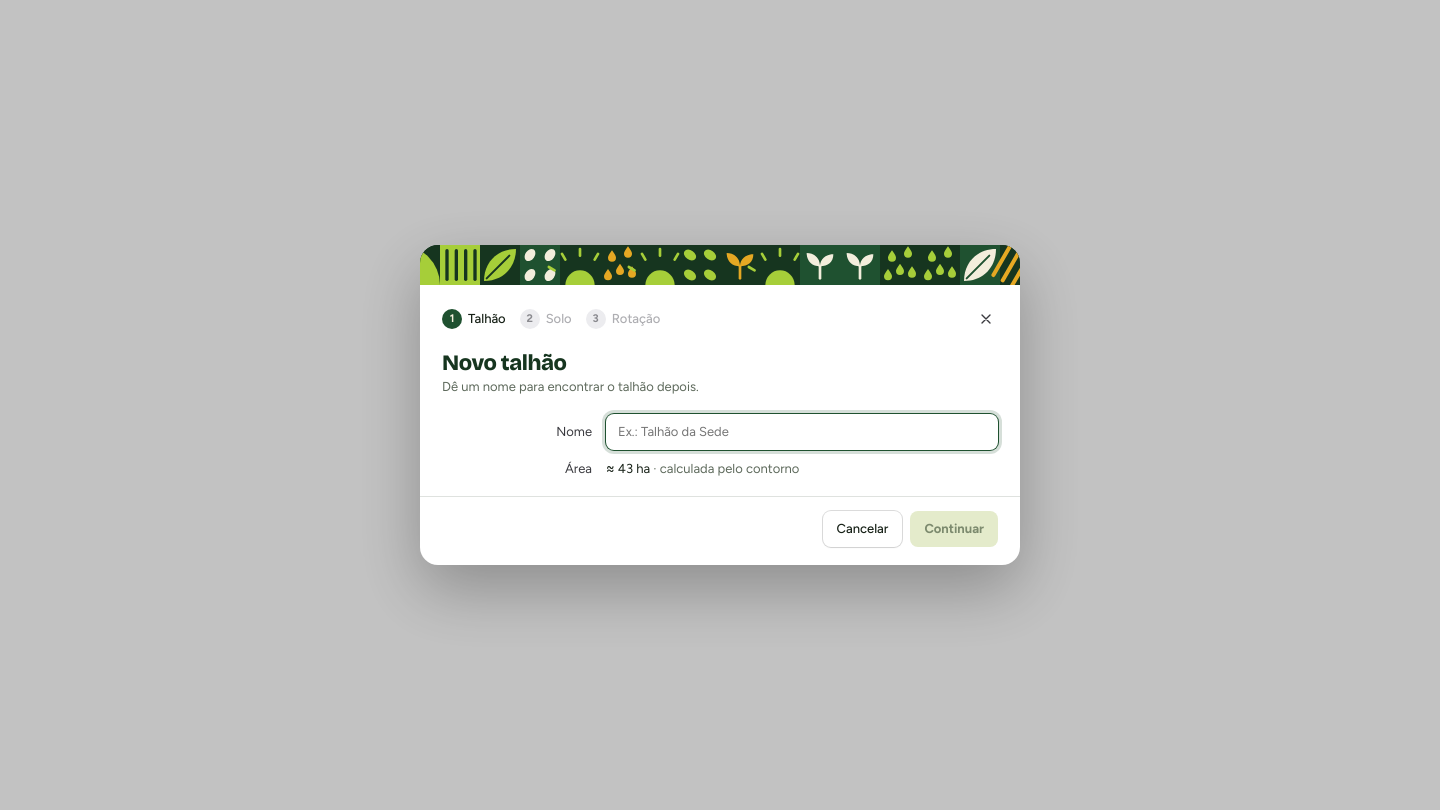
it: JanelaPassos (novo talhão) › Continuar exige nome
This screenshot has width=1440, height=810.
Expected: the button "Continuar" is disabled, [910, 511, 998, 547]
Type "Sede" into the field labelled "Nome" at x=802, y=432, box [616, 422, 988, 442]
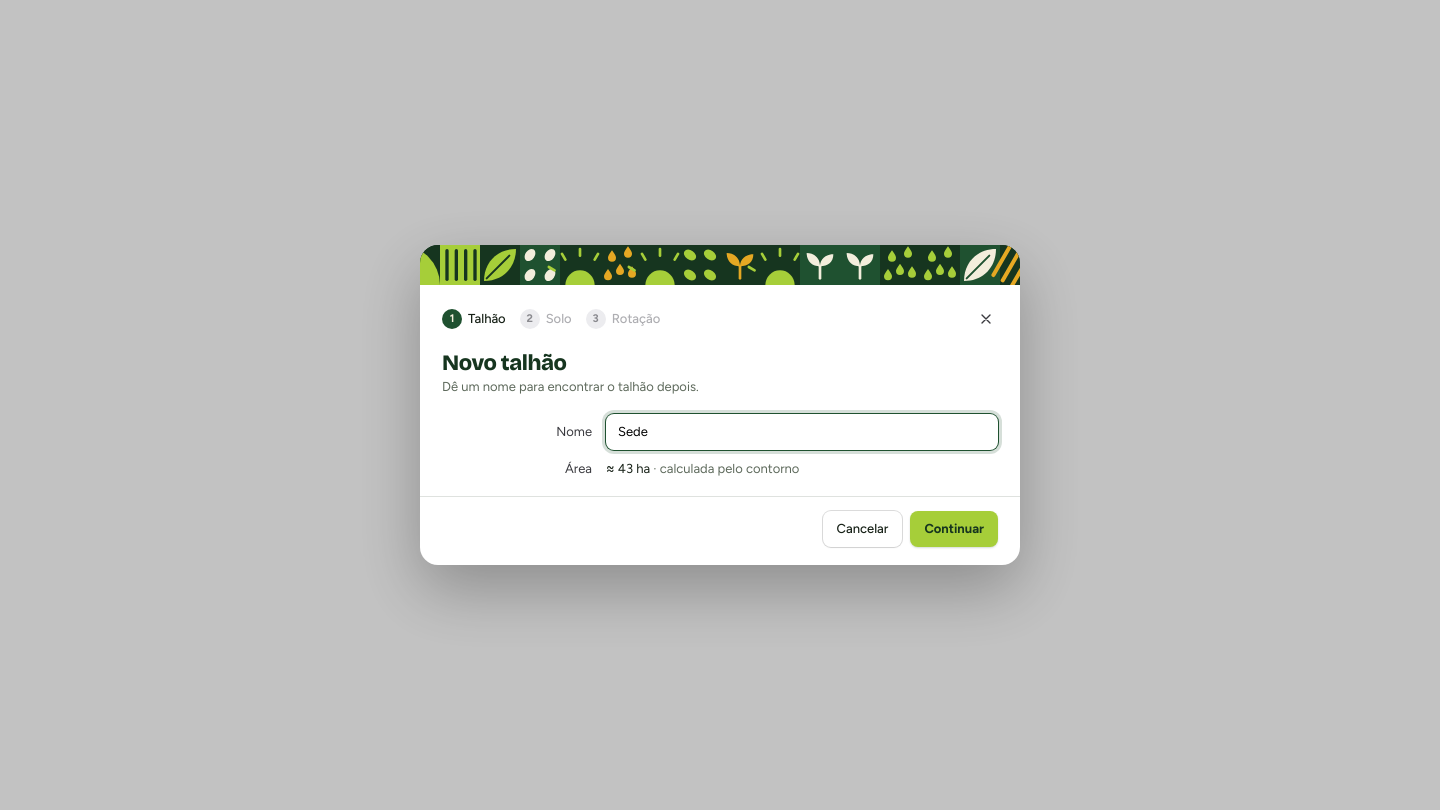
Expected: the button "Continuar" is enabled, [910, 511, 998, 547]
